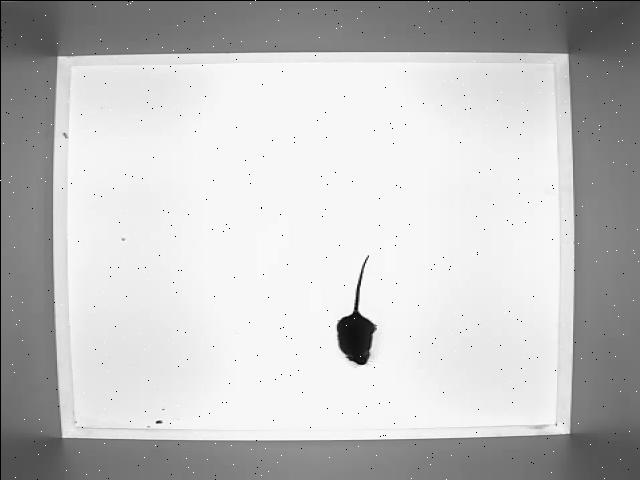Tikus: (318, 252, 382, 368)
